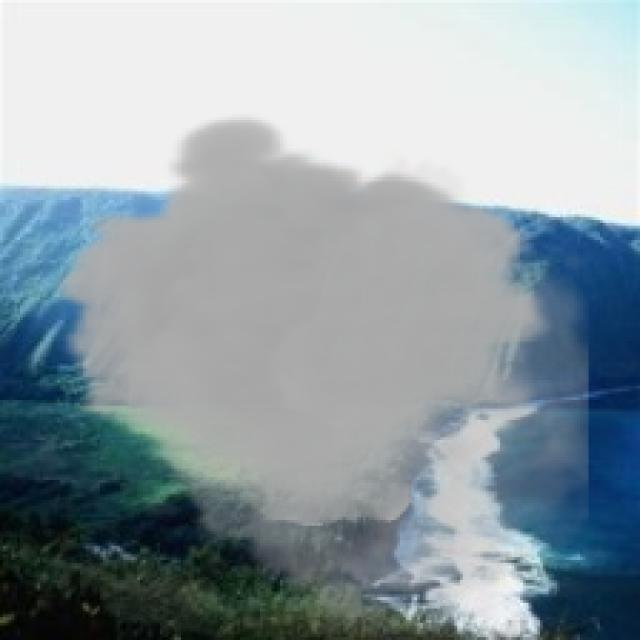smoke: (51, 112, 592, 637)
